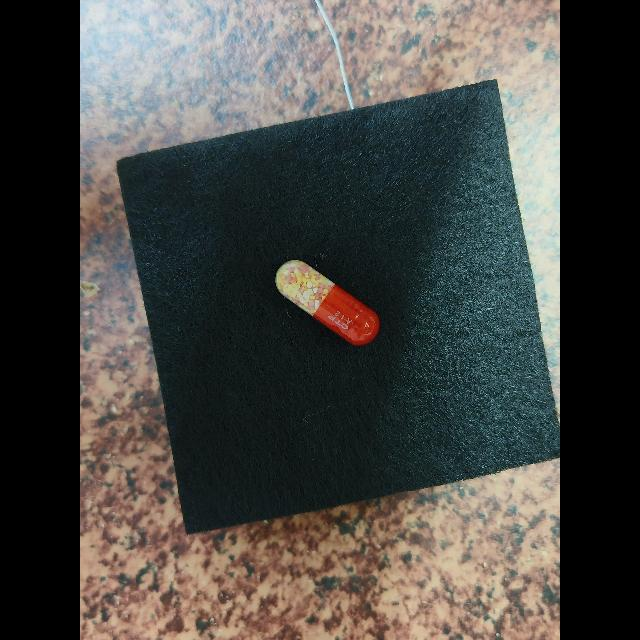Intact Capsule: (275, 260, 380, 346)
